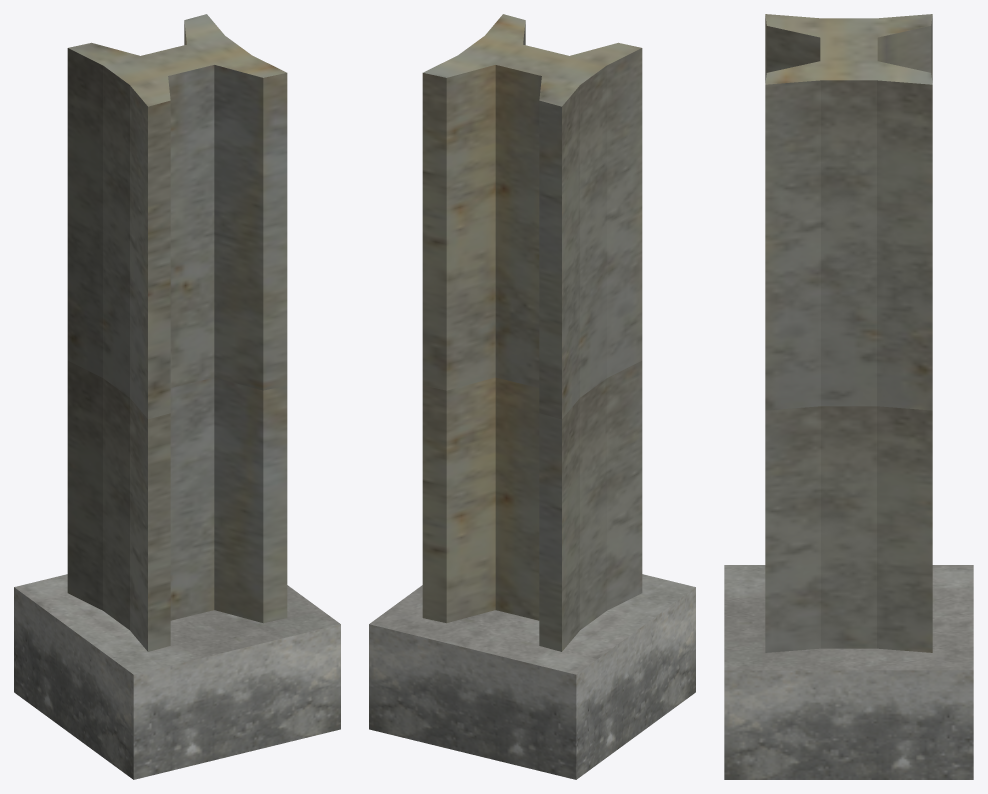
Rendered from MetalPillarBase.fbx.
3 renders of one model, left to right at view 1: azimuth 30°, elevation 25°; view 2: azimuth 150°, elevation 25°; view 3: azimuth 270°, elevation 25°, orthographic. The views are drawn at different scales.
Parts seen in each view (by area): view 1: MetalPillarBase; view 2: MetalPillarBase; view 3: MetalPillarBase.
Boxes of the visible parts, x1=… form: MetalPillarBase: x1=14, y1=14, x2=340, y2=779; MetalPillarBase: x1=369, y1=14, x2=695, y2=779; MetalPillarBase: x1=724, y1=14, x2=973, y2=779.
Bounding box in the file's own units: 200 × 200 × 600.
